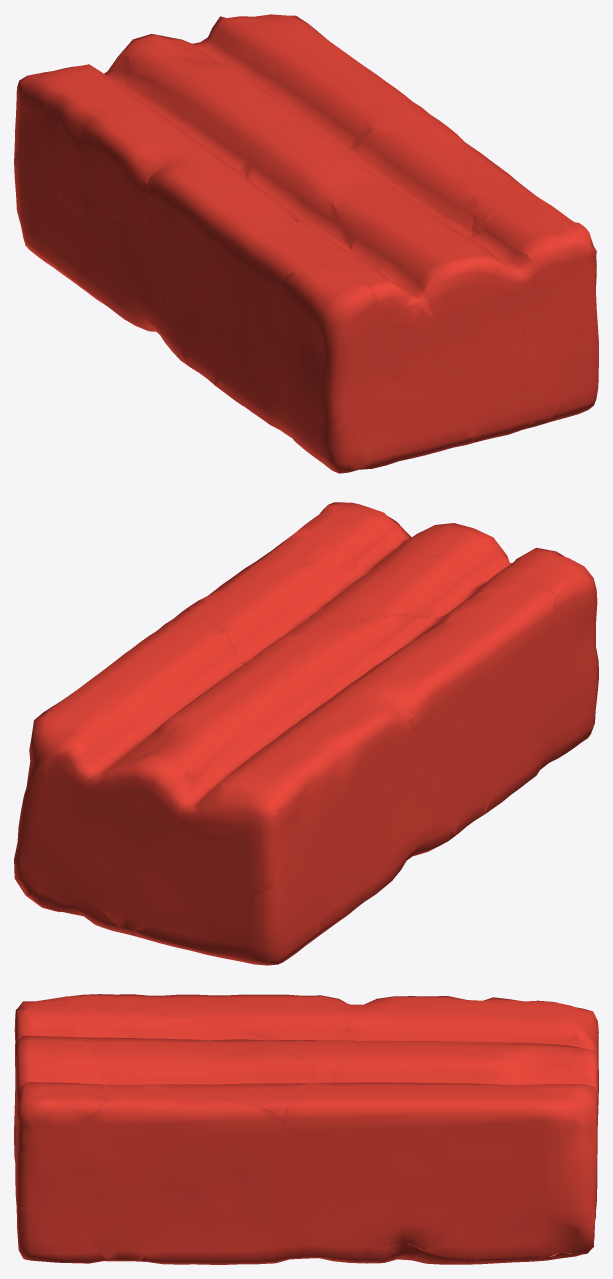
File: BrickShattered1.fbx
3 renders of one model, top to bottom at view 1: azimuth 30°, elevation 25°; view 2: azimuth 150°, elevation 25°; view 3: azimuth 270°, elevation 25°, orthographic. The views are drawn at different scales.
Parts seen in each view (by area): view 1: Retopo_3DModel_mesh.001_cell; view 2: Retopo_3DModel_mesh.001_cell; view 3: Retopo_3DModel_mesh.001_cell.
Boxes of the visible parts, bbox=[...] form: Retopo_3DModel_mesh.001_cell: bbox=[14, 14, 598, 473]; Retopo_3DModel_mesh.001_cell: bbox=[14, 502, 598, 965]; Retopo_3DModel_mesh.001_cell: bbox=[14, 994, 598, 1264].
Size of the model in its own units: 7.13 by 4.57 by 14.58.
